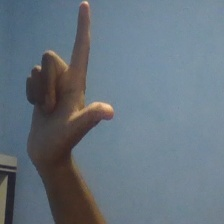L: (19, 1, 116, 164)
